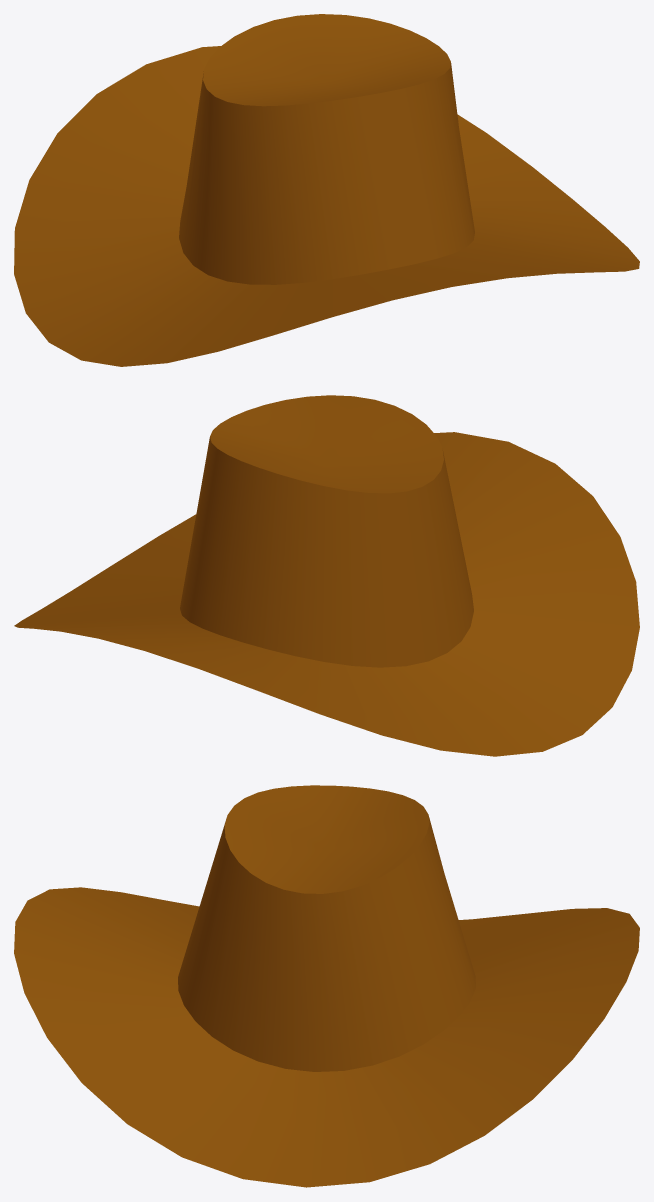
File: Cowboy hat.fbx
3 renders of one model, top to bottom at view 1: azimuth 30°, elevation 25°; view 2: azimuth 150°, elevation 25°; view 3: azimuth 270°, elevation 25°, orthographic. The views are drawn at different scales.
Visible parts, largest first — view 1: Circle; view 2: Circle; view 3: Circle.
Boxes of the visible parts, bbox=[...] form: Circle: bbox=[14, 14, 639, 366]; Circle: bbox=[14, 395, 639, 756]; Circle: bbox=[14, 785, 639, 1187].
Size of the model in its own units: 195 by 79.5 by 195.
